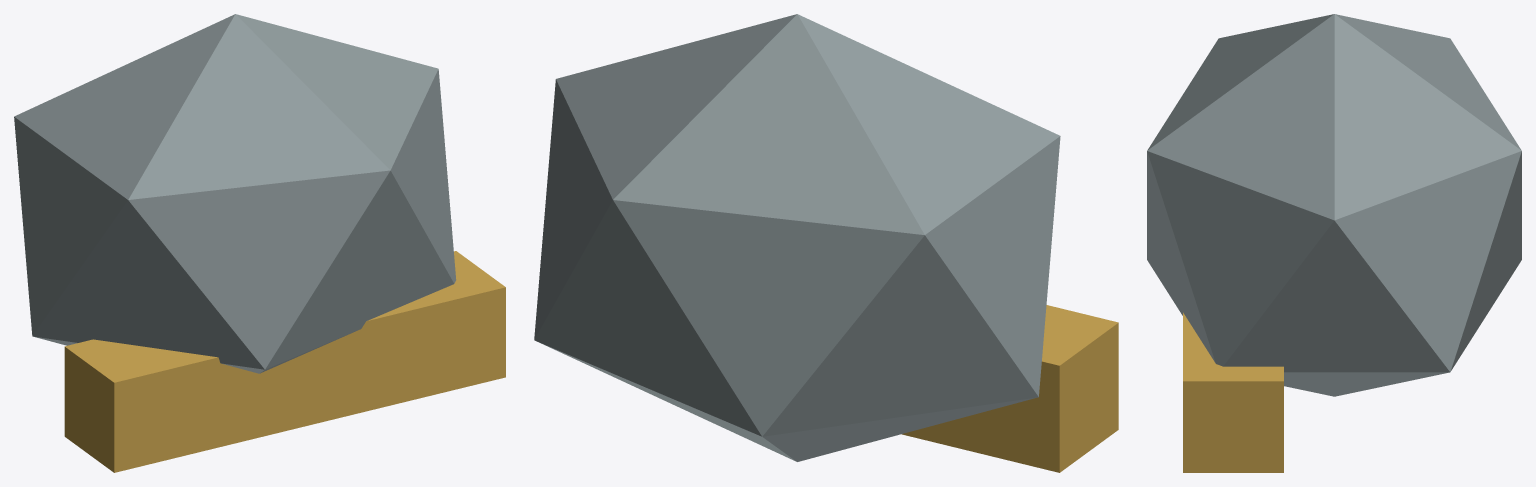
File: wk_shell_shoulder_pauldron_v01.glb
The picture shows the model from 3 angles, left to right: view 1: azimuth 30°, elevation 25°; view 2: azimuth 150°, elevation 25°; view 3: azimuth 270°, elevation 25°; orthographic projection. The views are drawn at different scales.
Visible parts, largest first — view 1: GEO_Pauldron, GEO_PauldronLip; view 2: GEO_Pauldron, GEO_PauldronLip; view 3: GEO_Pauldron, GEO_PauldronLip.
Part boxes in pixels (box(x1,y1,x2,y2)): GEO_Pauldron: box(14, 14, 456, 373); GEO_PauldronLip: box(64, 251, 505, 472); GEO_Pauldron: box(534, 14, 1060, 461); GEO_PauldronLip: box(902, 305, 1118, 472); GEO_Pauldron: box(1147, 14, 1521, 396); GEO_PauldronLip: box(1183, 312, 1283, 472).
Size of the model in its own units: 0.2594 by 0.23 by 0.2042.
